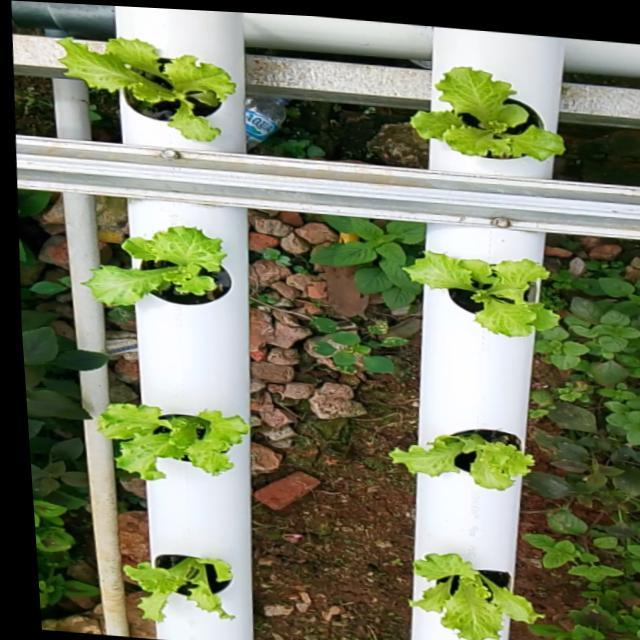Baby: (55, 35, 234, 140), (410, 61, 565, 172), (400, 245, 558, 333), (87, 218, 236, 299), (101, 395, 253, 472), (411, 545, 544, 633), (391, 422, 537, 483), (127, 545, 237, 611)
